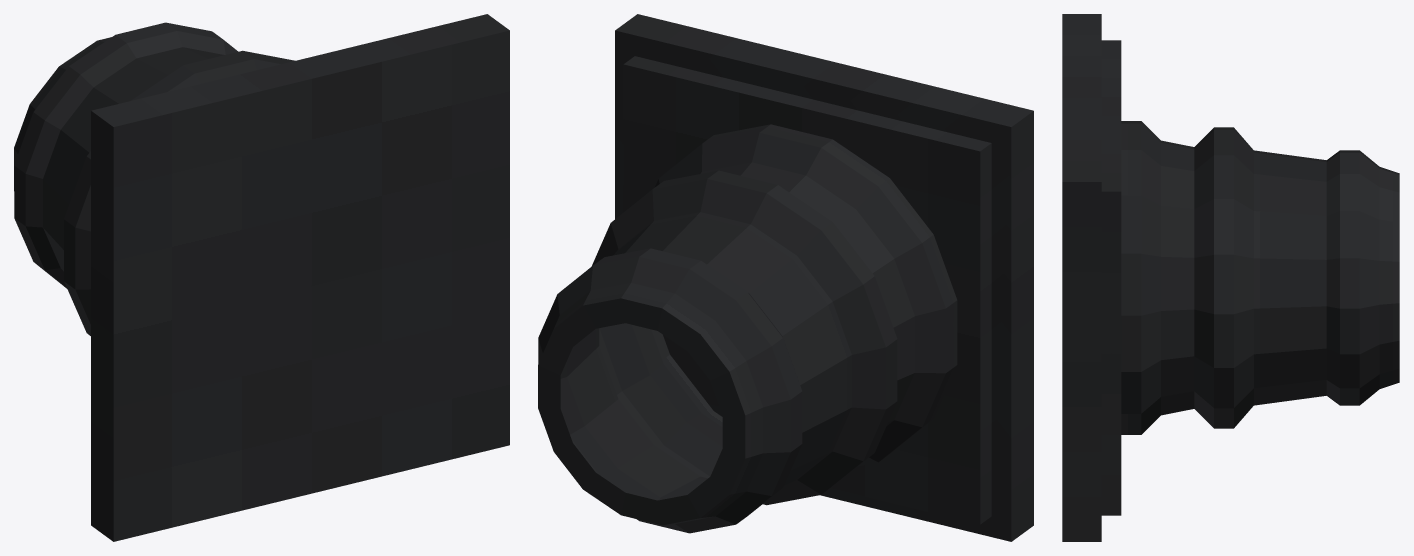
File: decopole_reprofluted_base_s.obj
3 renders of one model, left to right at view 1: azimuth 30°, elevation 25°; view 2: azimuth 150°, elevation 25°; view 3: azimuth 270°, elevation 25°, orthographic. The views are drawn at different scales.
Parts seen in each view (by area): view 1: decopole_reprofluted_base_s; view 2: decopole_reprofluted_base_s; view 3: decopole_reprofluted_base_s.
Part boxes in pixels (<box>): decopole_reprofluted_base_s: <box>14,14,509,541</box>; decopole_reprofluted_base_s: <box>538,14,1033,541</box>; decopole_reprofluted_base_s: <box>1062,14,1399,541</box>.
Size of the model in its own units: 0.75 by 0.75 by 0.6362.
